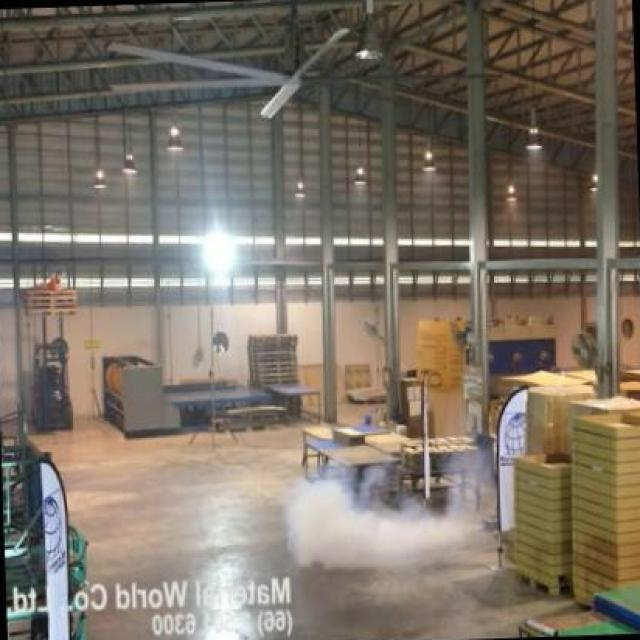fire: (271, 465, 448, 582)
